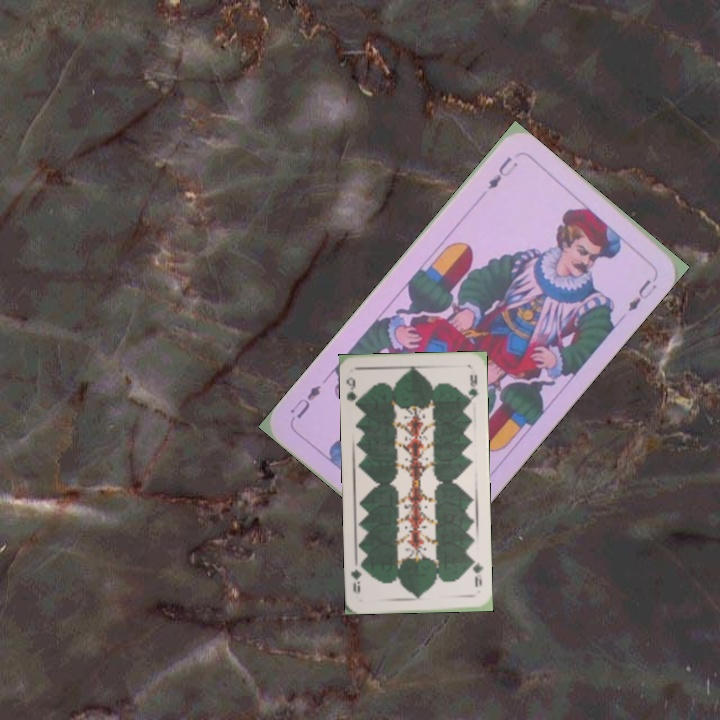EU: (483, 153, 521, 192)
G9: (342, 373, 363, 409), (467, 555, 486, 590)
